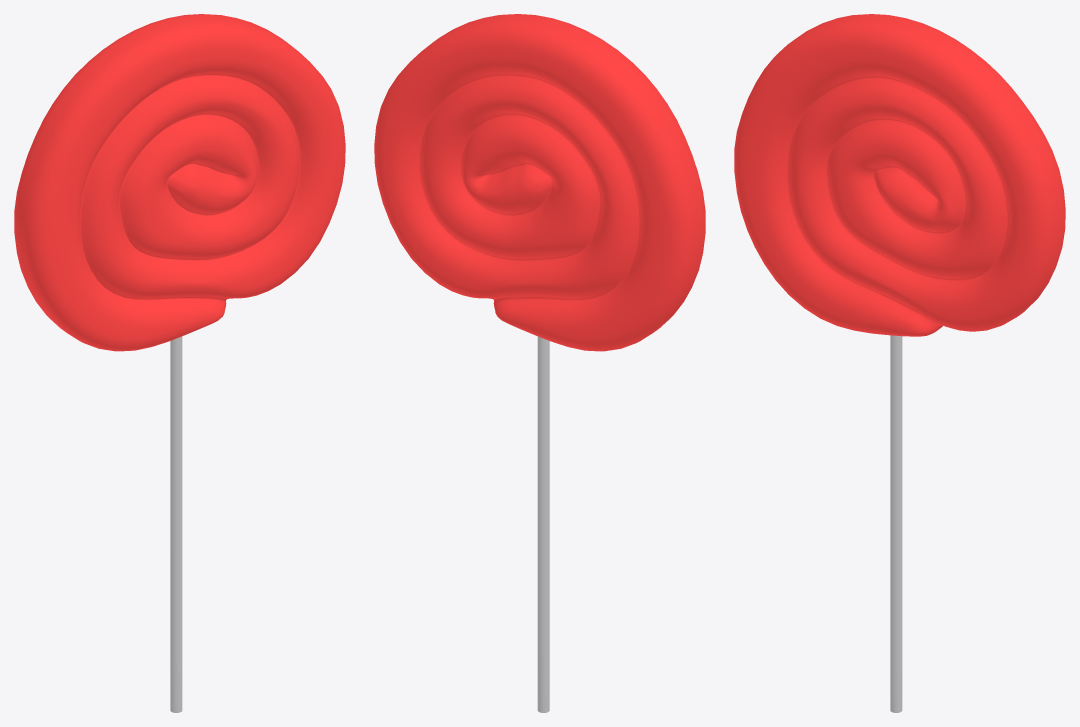
File: lollipop.glb
The picture shows the model from 3 angles, left to right: view 1: azimuth 30°, elevation 25°; view 2: azimuth 150°, elevation 25°; view 3: azimuth 330°, elevation 25°; orthographic projection.
Parts seen in each view (by area): view 1: lollipop, stick; view 2: lollipop, stick; view 3: lollipop, stick.
Part boxes in pixels (left/top/right/bottom): lollipop: left=14, top=14, right=345, bottom=351; stick: left=170, top=336, right=182, bottom=712; lollipop: left=374, top=14, right=705, bottom=351; stick: left=537, top=336, right=549, bottom=712; lollipop: left=734, top=14, right=1065, bottom=336; stick: left=890, top=335, right=902, bottom=712.
Bounding box in the file's own units: 5.73 × 11.85 × 0.888.
Materials: 2 (2 with a texture image).
